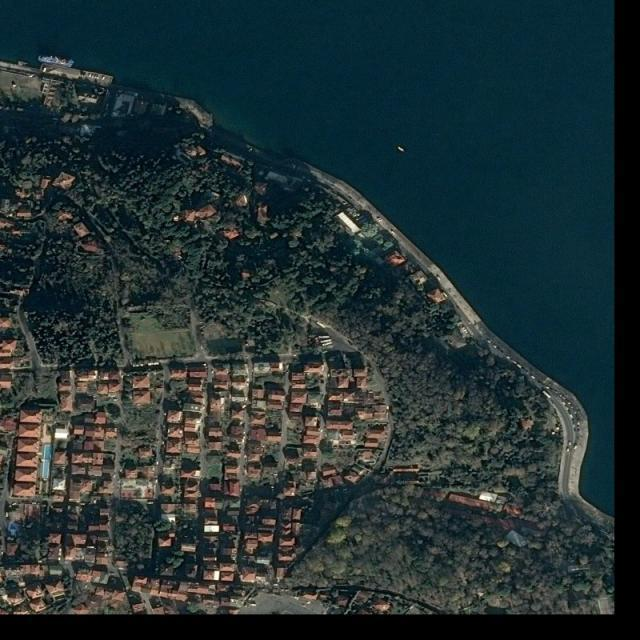ship: (38, 54, 75, 69), (397, 146, 406, 154)
